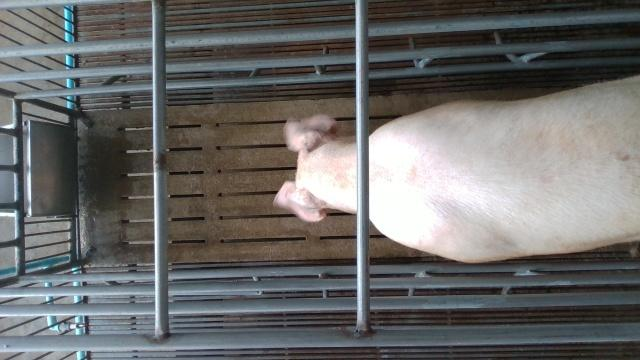sow-stand: (273, 74, 640, 264)
